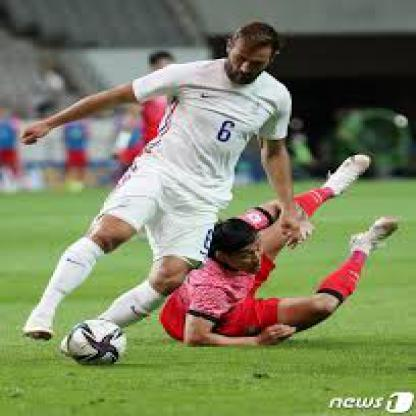Fall_Down: (156, 154, 400, 346)
